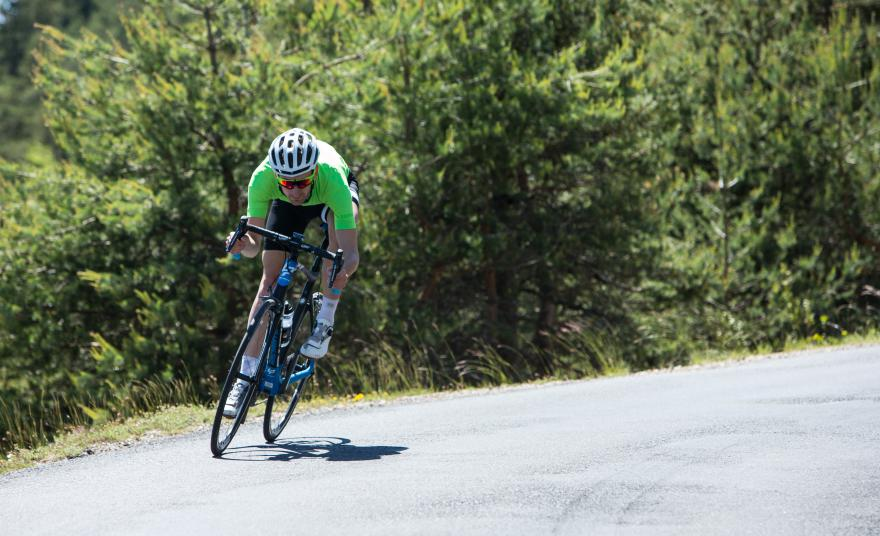helmet: (267, 127, 318, 174)
